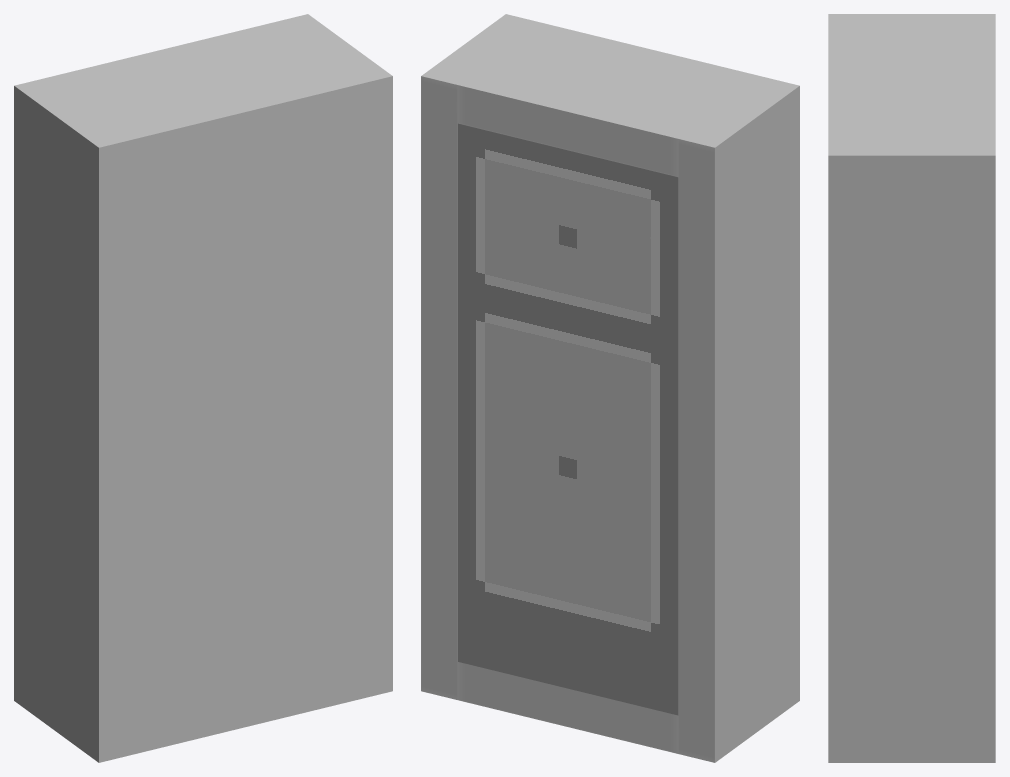
The model's file is interiorpod.obj.
3 views of the same model, side by side, from view 1: azimuth 30°, elevation 25°; view 2: azimuth 150°, elevation 25°; view 3: azimuth 270°, elevation 25° (orthographic).
Parts seen in each view (by area): view 1: Default; view 2: Default; view 3: Default.
Boxes of the visible parts, x1,y1,x2,y2 form: Default: (14,14,392,762); Default: (421,14,799,762); Default: (828,14,995,762).
Size of the model in its own units: 2 by 4 by 1.
